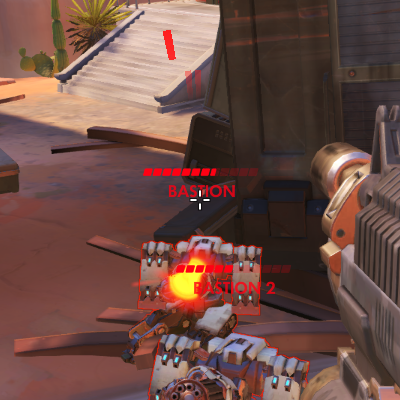hpbar: (175, 264, 292, 274), (142, 167, 259, 176)
